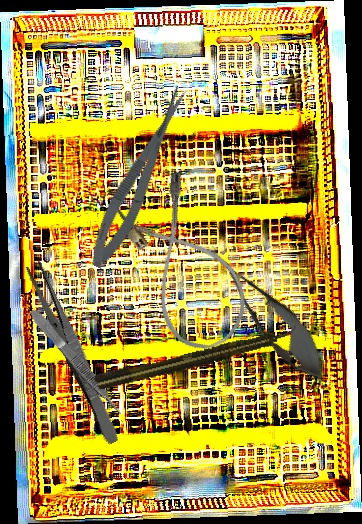Cannula: (107, 167, 262, 362)
Dressing Forceps: (23, 259, 125, 447)
Handpiece: (92, 323, 301, 393)
Micro Scissor: (79, 82, 201, 274), (194, 234, 340, 392)
Tissue Forceps: (27, 306, 125, 419)
